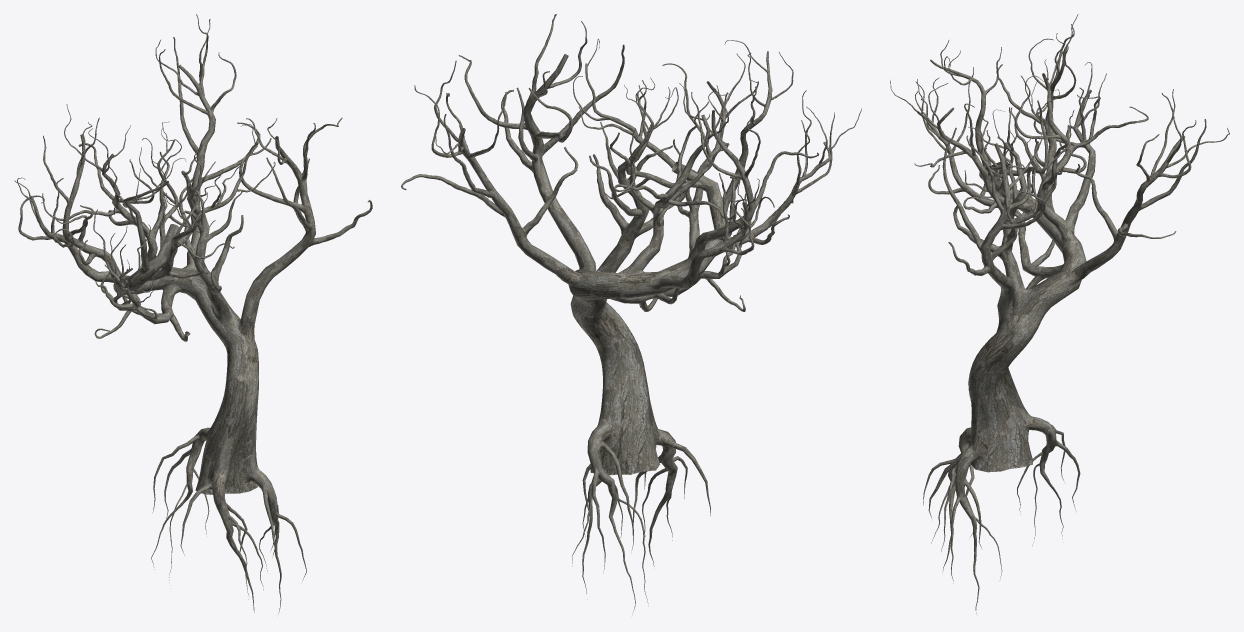
File: dead-tree2.glb
3 renders of one model, left to right at view 1: azimuth 30°, elevation 25°; view 2: azimuth 150°, elevation 25°; view 3: azimuth 270°, elevation 25°, orthographic. The views are drawn at different scales.
Visible parts, largest first — view 1: Object_6; view 2: Object_6; view 3: Object_6.
Boxes of the visible parts, box(x1,y1,x2,y2) form: Object_6: box(14, 14, 372, 613); Object_6: box(401, 14, 861, 613); Object_6: box(890, 14, 1229, 613).
Size of the model in its own units: 3.77 by 6.4 by 3.67.
Materials: 1 (1 with a texture image).
